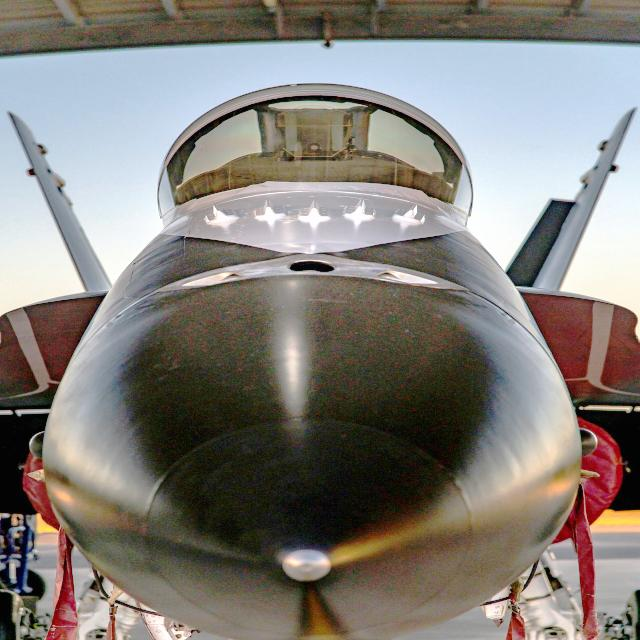Aircraft: (5, 73, 640, 639)
